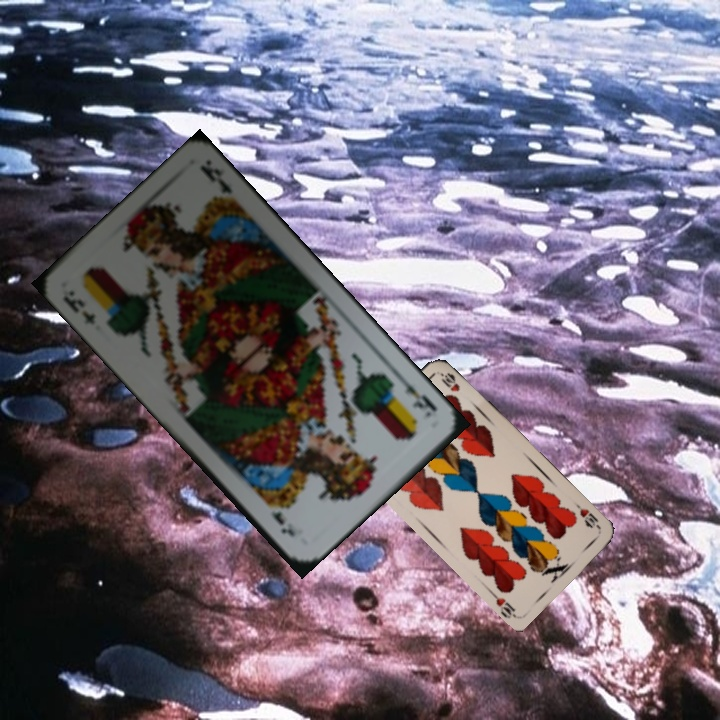EK: (395, 371, 440, 421), (58, 286, 98, 328)
H10: (576, 504, 603, 532)
